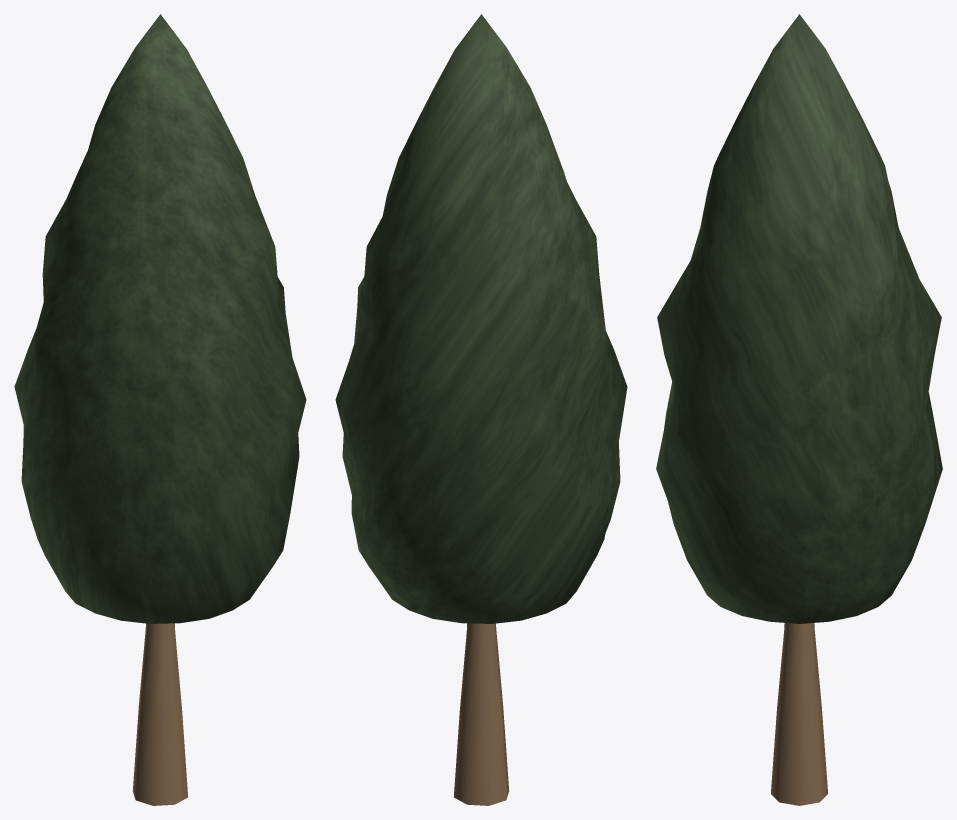
The model's file is tree.fbx.
3 views of the same model, side by side, from view 1: azimuth 30°, elevation 25°; view 2: azimuth 150°, elevation 25°; view 3: azimuth 270°, elevation 25° (orthographic).
Parts seen in each view (by area): view 1: tree.001; view 2: tree.001; view 3: tree.001.
Part boxes in pixels (left/top/right/bottom): tree.001: left=14, top=14, right=306, bottom=805; tree.001: left=335, top=14, right=627, bottom=805; tree.001: left=656, top=14, right=942, bottom=805.
Bounding box in the file's own units: 3 × 9 × 3.
